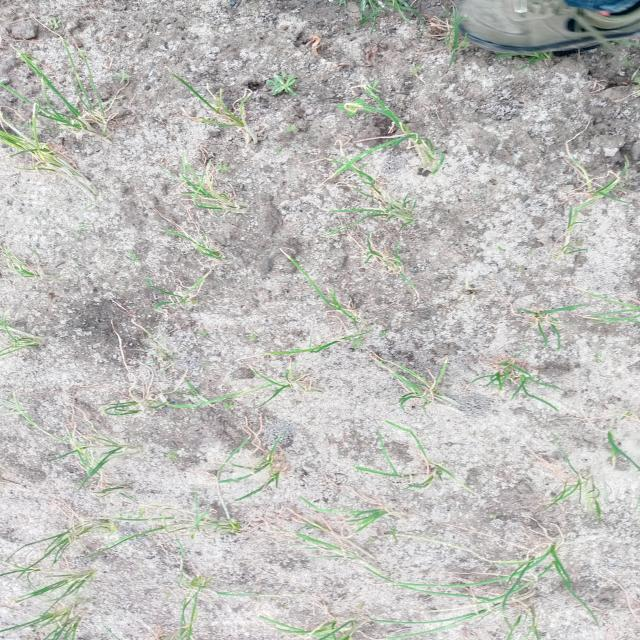Spring Onion: (441, 582, 549, 634), (491, 535, 585, 593), (480, 348, 566, 404), (265, 602, 378, 640), (384, 346, 448, 413), (554, 157, 640, 206), (466, 295, 585, 329), (224, 430, 280, 494), (0, 123, 70, 173), (55, 99, 134, 140), (536, 475, 624, 509), (27, 516, 98, 558), (375, 107, 424, 163), (218, 116, 288, 153), (410, 448, 467, 492), (321, 144, 382, 185), (186, 230, 244, 271), (198, 182, 262, 219), (325, 306, 373, 352), (342, 495, 398, 534), (252, 359, 304, 399), (95, 387, 146, 420), (22, 318, 58, 360), (615, 285, 640, 340), (88, 440, 133, 469), (628, 406, 640, 460)
